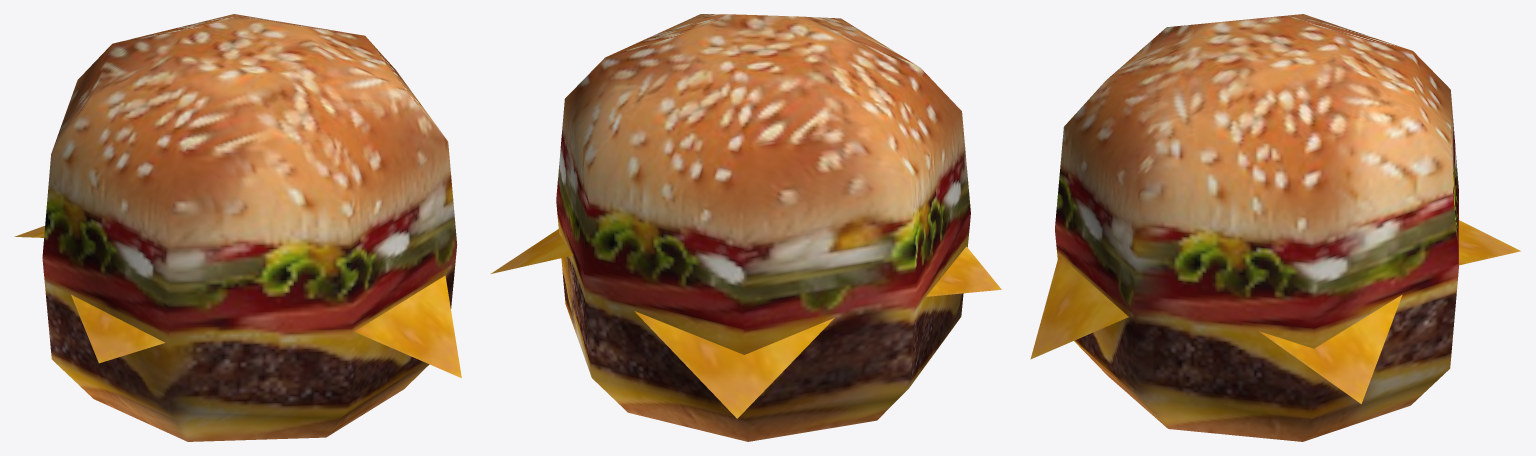
File: Hamburger_01.dae
3 views of the same model, side by side, from view 1: azimuth 30°, elevation 25°; view 2: azimuth 150°, elevation 25°; view 3: azimuth 270°, elevation 25° (orthographic).
Parts seen in each view (by area): view 1: Hamburger_01; view 2: Hamburger_01; view 3: Hamburger_01.
Boxes of the visible parts, bbox=[...] form: Hamburger_01: bbox=[14, 14, 461, 441]; Hamburger_01: bbox=[491, 14, 1001, 441]; Hamburger_01: bbox=[1030, 14, 1520, 441].
Size of the model in its own units: 0.2954 by 0.302 by 0.2236.
1 material, 1 textured.
